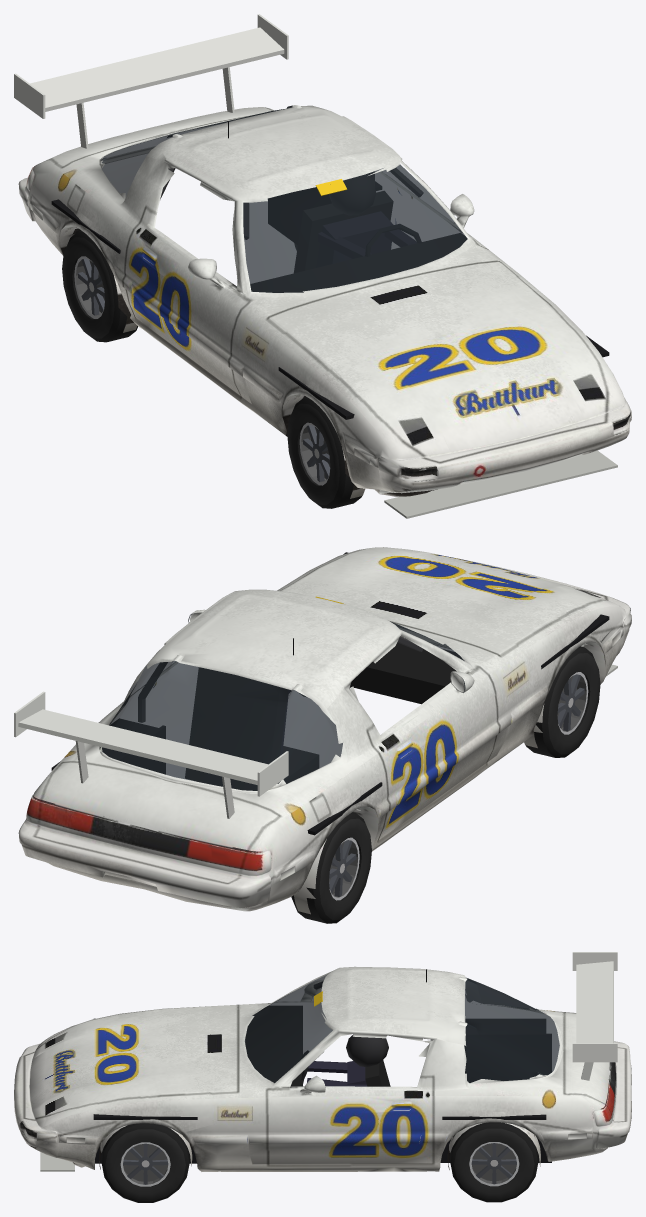
3 views of the same model, one above another, from view 1: azimuth 30°, elevation 25°; view 2: azimuth 150°, elevation 25°; view 3: azimuth 270°, elevation 25° (orthographic). The views are drawn at different scales.
Visible parts, largest first — view 1: body, wheel_fr, wheel_rr; view 2: body, wheel_rr, wheel_fr; view 3: body, wheel_fl, wheel_rl.
Boxes of the visible parts, bbox=[...] form: body: bbox=[14, 14, 631, 518]; wheel_fr: bbox=[287, 397, 361, 508]; wheel_rr: bbox=[62, 230, 137, 342]; body: bbox=[14, 547, 631, 914]; wheel_rr: bbox=[291, 812, 371, 923]; wheel_fr: bbox=[526, 646, 600, 757]; body: bbox=[14, 952, 631, 1171]; wheel_fl: bbox=[101, 1123, 189, 1202]; wheel_rl: bbox=[450, 1122, 538, 1202].
Bounding box in the file's own units: 1.72 × 1.33 × 4.29.
Materials: 2 (1 with a texture image).
